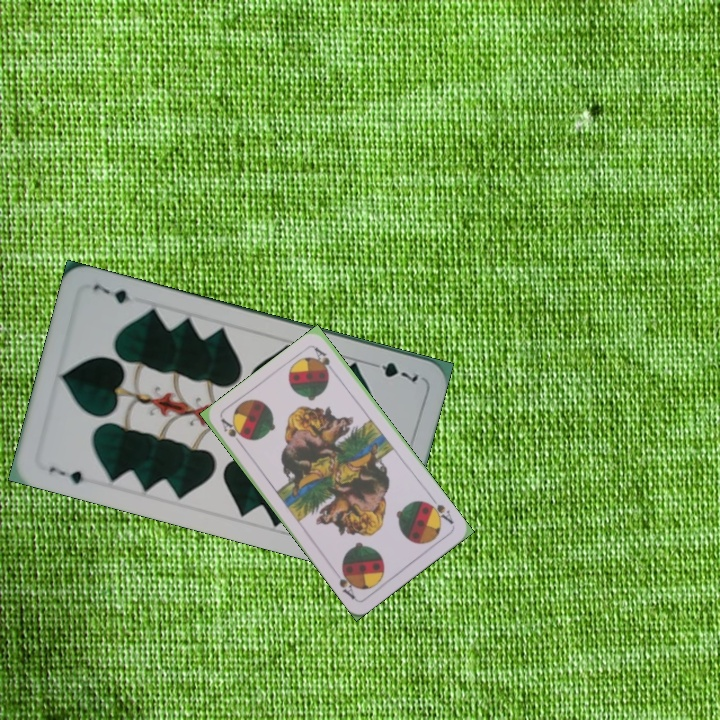G7: (365, 357, 421, 385), (44, 463, 87, 487)
SA: (422, 493, 457, 527), (217, 414, 245, 450)
